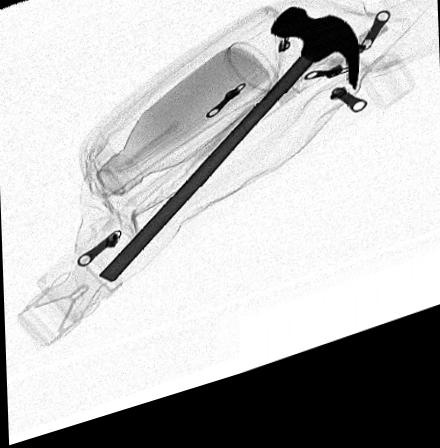Hammer: (96, 23, 359, 288)
